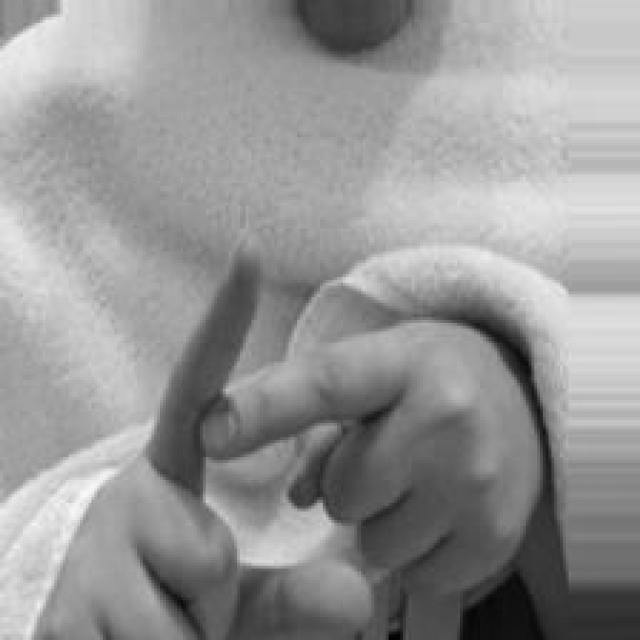J: (38, 237, 540, 640)
